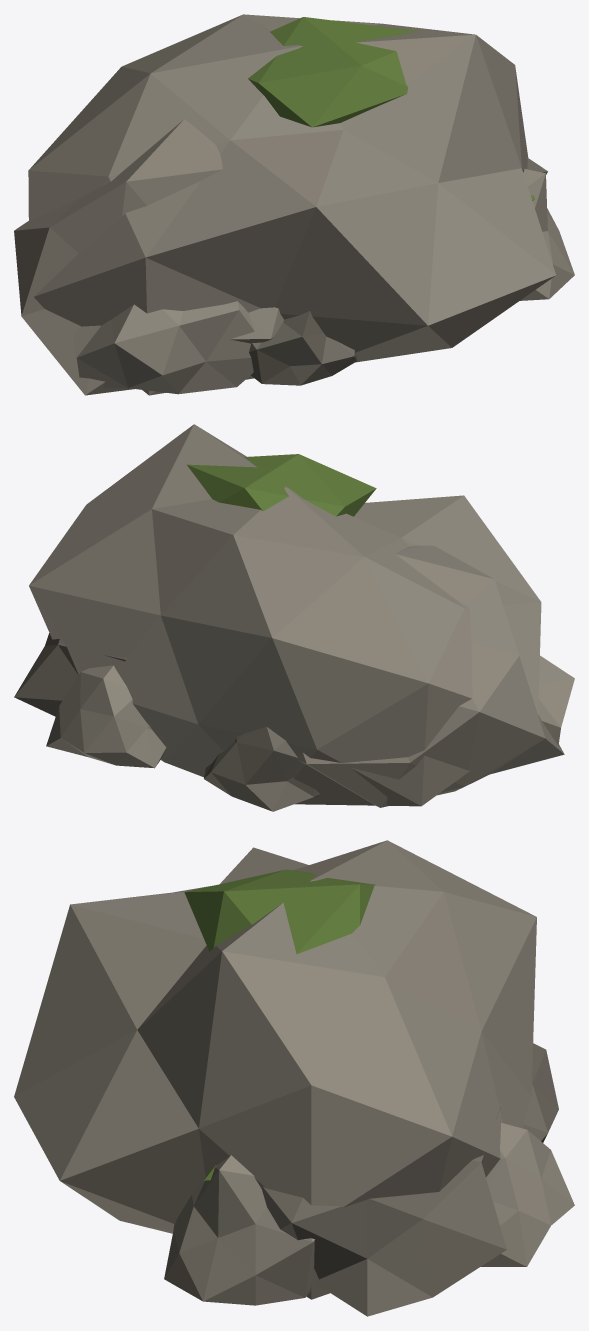
The model's file is boulder.glb.
3 renders of one model, top to bottom at view 1: azimuth 30°, elevation 25°; view 2: azimuth 150°, elevation 25°; view 3: azimuth 270°, elevation 25°, orthographic. The views are drawn at different scales.
Parts seen in each view (by area): view 1: One, Heap, Pair; view 2: One, Pair, Heap; view 3: One, Heap, Pair.
Boxes of the visible parts, <box> form: One: <box>28,14,555,395</box>; Heap: <box>73,168,574,394</box>; Pair: <box>14,119,547,395</box>; One: <box>29,424,541,806</box>; Pair: <box>14,545,564,807</box>; Heap: <box>46,655,574,811</box>; One: <box>14,840,536,1299</box>; Heap: <box>164,1043,574,1305</box>; Pair: <box>220,847,506,1316</box>.
Size of the model in its own units: 2.53 by 1.22 by 2.01.
